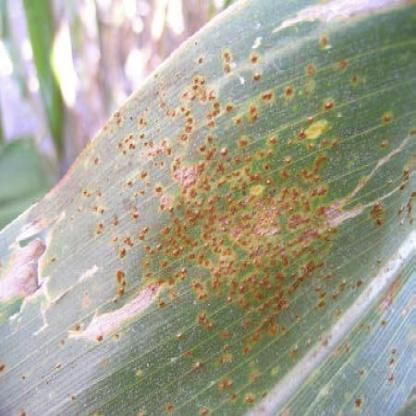Corn rust leaf: (1, 1, 414, 415)
